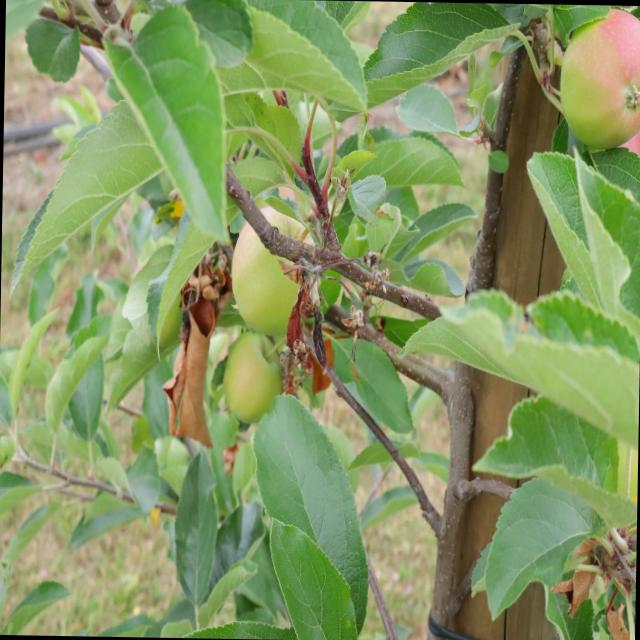-FireBlight-: (173, 266, 218, 450), (274, 257, 334, 392)
